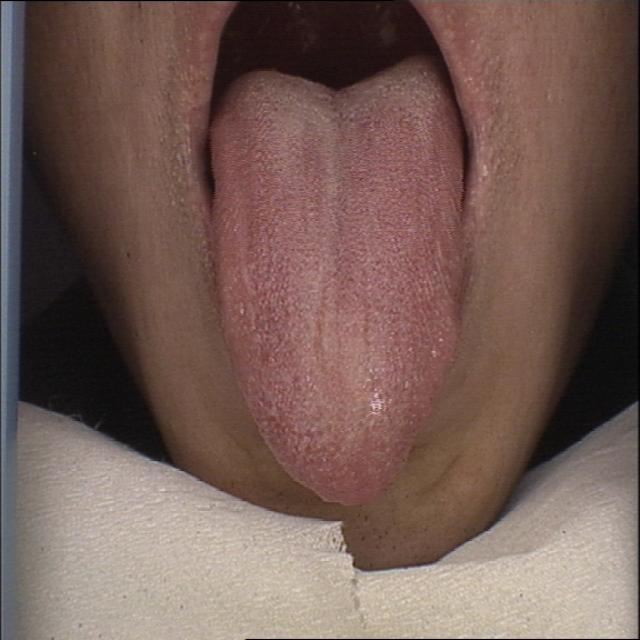tongue: (208, 54, 472, 508)
